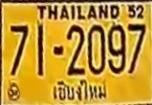0: (87, 24, 104, 74)
1: (37, 23, 44, 75)
2: (66, 24, 86, 74)
7: (127, 24, 145, 72), (10, 25, 27, 74)
9: (107, 24, 125, 73)
CMI: (49, 78, 108, 103)
